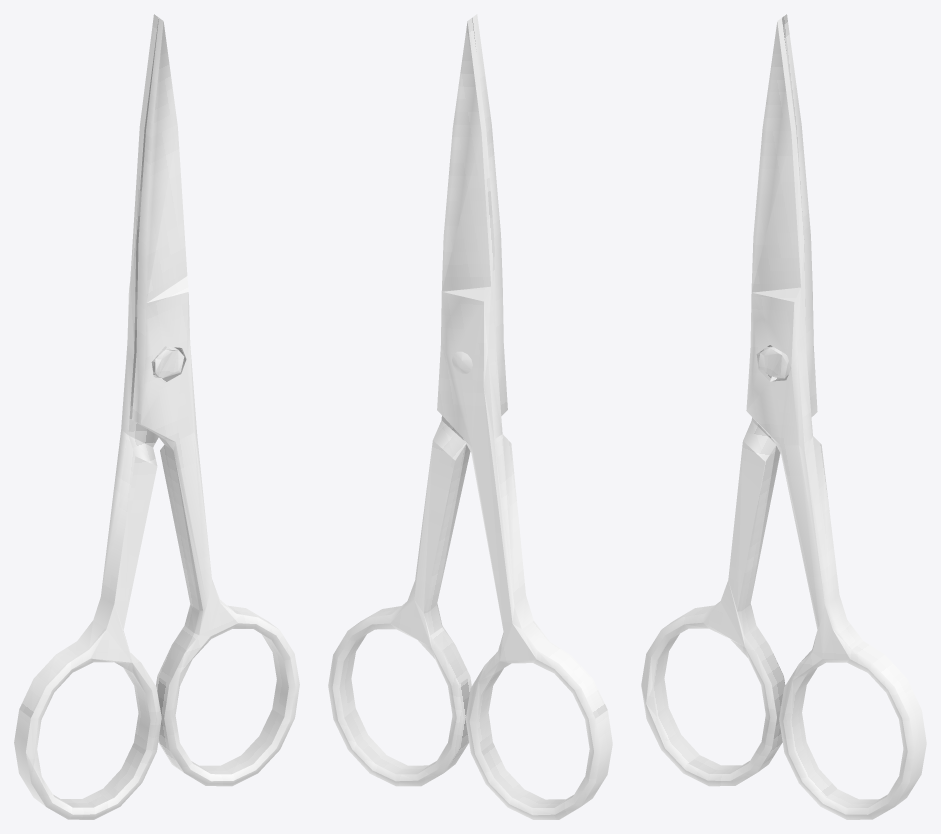
Rendered from Scissors.glb.
3 views of the same model, side by side, from view 1: azimuth 30°, elevation 25°; view 2: azimuth 150°, elevation 25°; view 3: azimuth 330°, elevation 25° (orthographic).
Visible parts, largest first — view 1: Scissors; view 2: Scissors; view 3: Scissors.
Part boxes in pixels (x1,y1,x2,y2): Scissors: (14, 14, 299, 819); Scissors: (328, 14, 612, 819); Scissors: (641, 14, 926, 819).
Bounding box in the file's own units: 0.0595 × 0.1625 × 0.00807.
1 material, 1 textured.
